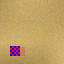structure: (30, 23, 46, 40)
